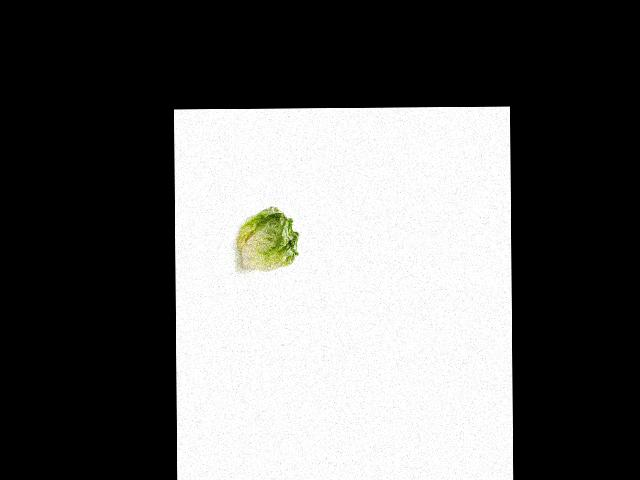lettuce: (238, 202, 301, 276)
